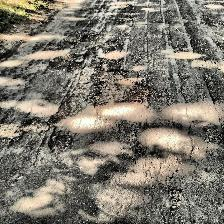pothole: (92, 64, 158, 124)
